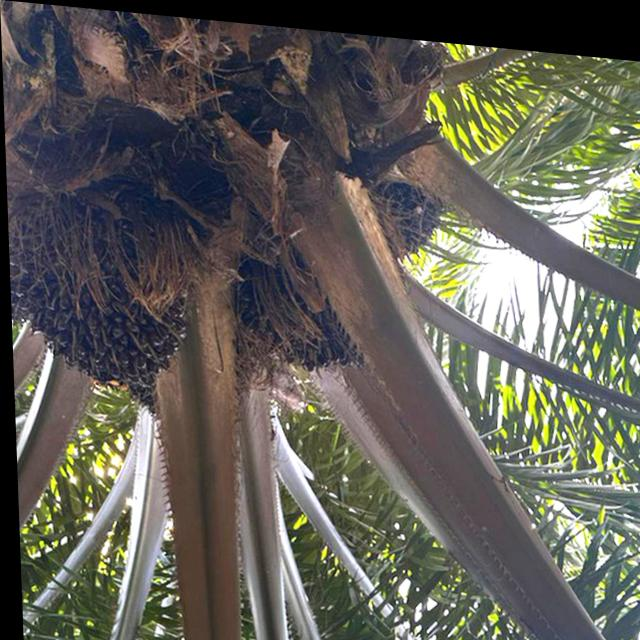almost: (10, 174, 199, 416), (225, 211, 370, 402)
